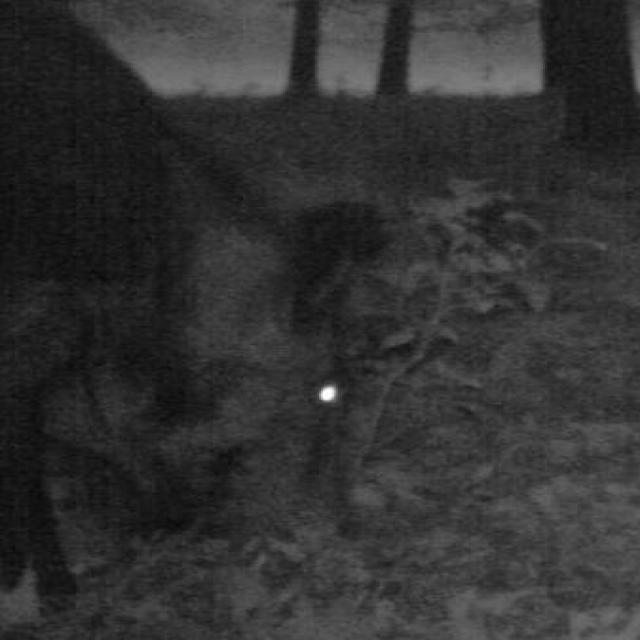pig: (0, 0, 384, 619)
